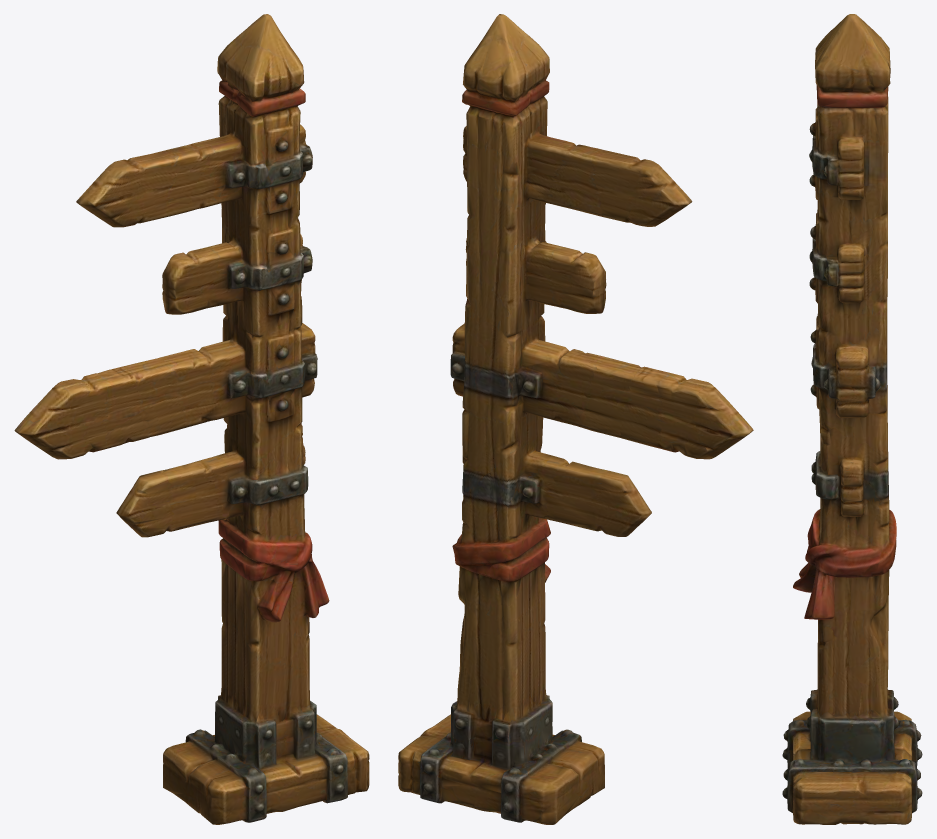
The model's file is signpost.glb.
3 views of the same model, side by side, from view 1: azimuth 30°, elevation 25°; view 2: azimuth 150°, elevation 25°; view 3: azimuth 270°, elevation 25° (orthographic).
Size of the model in its own units: 0.8419 by 1.9 by 0.3111.
Materials: 1 (1 with a texture image).
